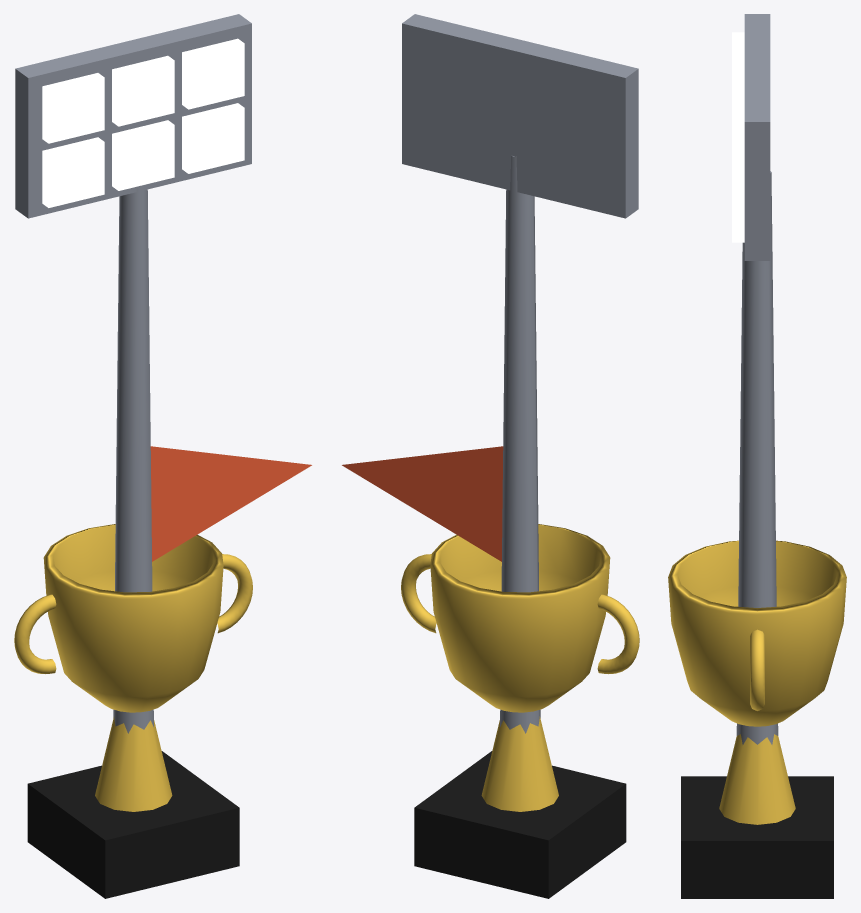
The model's file is trinket.glb.
3 views of the same model, side by side, from view 1: azimuth 30°, elevation 25°; view 2: azimuth 150°, elevation 25°; view 3: azimuth 270°, elevation 25° (orthographic).
Visible parts, largest first — view 1: SM_Trinket_003_Cup, SM_Trinket_003_Plinth, SM_Trinket_002_Frame, SM_Trinket_002_Mast, SM_Trinket_001_Flag, SM_Trinket_003_Stem, SM_Trinket_002_Lamp_00, SM_Trinket_002_Lamp_01, SM_Trinket_002_Lamp_11, SM_Trinket_002_Lamp_12, SM_Trinket_002_Lamp_10, SM_Trinket_002_Lamp_02 (+2 smaller); view 2: SM_Trinket_002_Frame, SM_Trinket_003_Cup, SM_Trinket_003_Plinth, SM_Trinket_002_Mast, SM_Trinket_001_Flag, SM_Trinket_003_Stem, SM_Trinket_003_HandleL, SM_Trinket_003_HandleR; view 3: SM_Trinket_003_Cup, SM_Trinket_003_Plinth, SM_Trinket_002_Mast, SM_Trinket_002_Frame, SM_Trinket_003_Stem, SM_Trinket_003_HandleR, SM_Trinket_002_Lamp_12, SM_Trinket_002_Lamp_02, SM_Trinket_002_Lamp_10, SM_Trinket_002_Lamp_11.
Part boxes in pixels (x1,y1,x2,y2): SM_Trinket_003_Cup: [43, 524, 223, 712]; SM_Trinket_003_Plinth: [27, 751, 239, 898]; SM_Trinket_002_Frame: [15, 14, 251, 218]; SM_Trinket_002_Mast: [113, 185, 153, 733]; SM_Trinket_001_Flag: [150, 446, 311, 561]; SM_Trinket_003_Stem: [95, 716, 172, 811]; SM_Trinket_002_Lamp_00: [42, 137, 104, 207]; SM_Trinket_002_Lamp_01: [112, 120, 174, 190]; SM_Trinket_002_Lamp_11: [112, 55, 174, 126]; SM_Trinket_002_Lamp_12: [182, 38, 244, 109]; SM_Trinket_002_Lamp_10: [42, 73, 104, 143]; SM_Trinket_002_Lamp_02: [182, 103, 244, 173]; SM_Trinket_002_Frame: [402, 14, 638, 218]; SM_Trinket_003_Cup: [430, 524, 610, 712]; SM_Trinket_003_Plinth: [414, 751, 626, 898]; SM_Trinket_002_Mast: [500, 155, 540, 733]; SM_Trinket_001_Flag: [342, 446, 503, 561]; SM_Trinket_003_Stem: [481, 716, 558, 811]; SM_Trinket_003_HandleL: [597, 594, 639, 674]; SM_Trinket_003_HandleR: [401, 554, 436, 633]; SM_Trinket_003_Cup: [668, 540, 846, 726]; SM_Trinket_003_Plinth: [681, 776, 833, 898]; SM_Trinket_002_Mast: [736, 171, 778, 744]; SM_Trinket_002_Frame: [744, 14, 770, 260]; SM_Trinket_003_Stem: [719, 734, 795, 824]; SM_Trinket_003_HandleR: [750, 629, 764, 710]; SM_Trinket_002_Lamp_12: [732, 99, 744, 178]; SM_Trinket_002_Lamp_02: [732, 179, 744, 242]; SM_Trinket_002_Lamp_10: [732, 32, 744, 65]; SM_Trinket_002_Lamp_11: [732, 66, 744, 99].
Size of the model in its own units: 0.0532 by 0.138 by 0.028.
